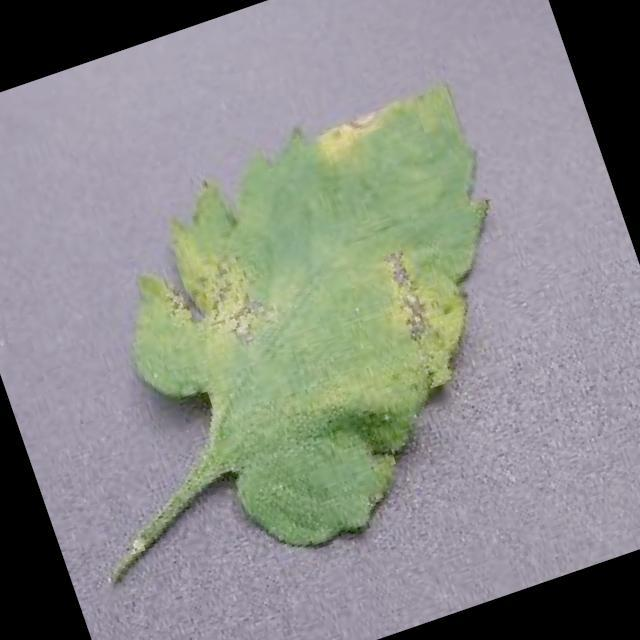Tomato Septoria spot leaf: (76, 71, 577, 588)
